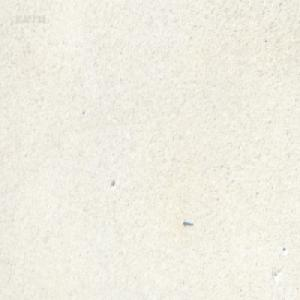Nail: (182, 219, 192, 227)
